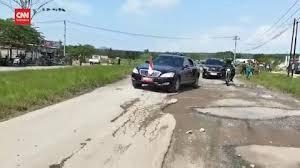Pothole: (202, 94, 300, 127), (223, 138, 300, 168), (222, 73, 273, 102)
